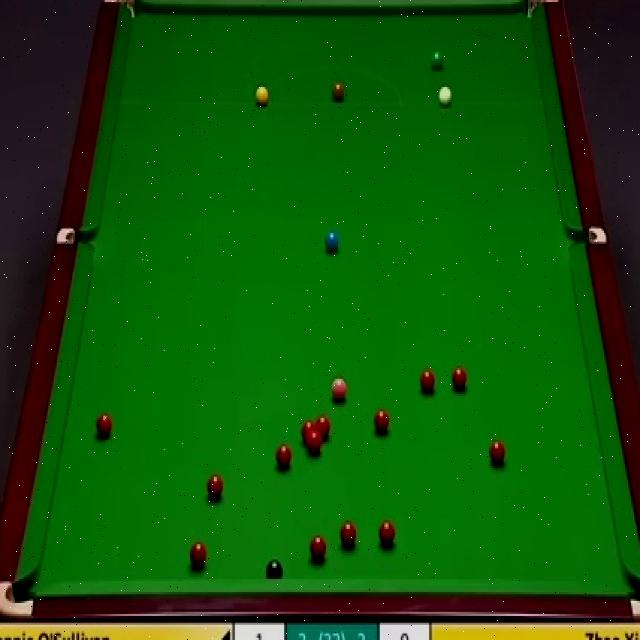black-ball: (265, 560, 283, 578)
blue-ball: (324, 230, 338, 253)
brown-ball: (330, 81, 346, 103)
green-ball: (431, 47, 443, 69)
pink-ball: (329, 376, 348, 401)
red-ball: (274, 442, 294, 471), (488, 439, 508, 468), (339, 521, 358, 550), (188, 540, 208, 567), (205, 473, 225, 500), (308, 534, 327, 561), (306, 429, 323, 459), (313, 414, 332, 439), (451, 364, 467, 392), (94, 414, 112, 438), (379, 521, 396, 545), (374, 408, 390, 433), (420, 370, 436, 392), (302, 420, 316, 445)
white-ball: (439, 86, 450, 105)
yellow-ball: (252, 85, 270, 107)
